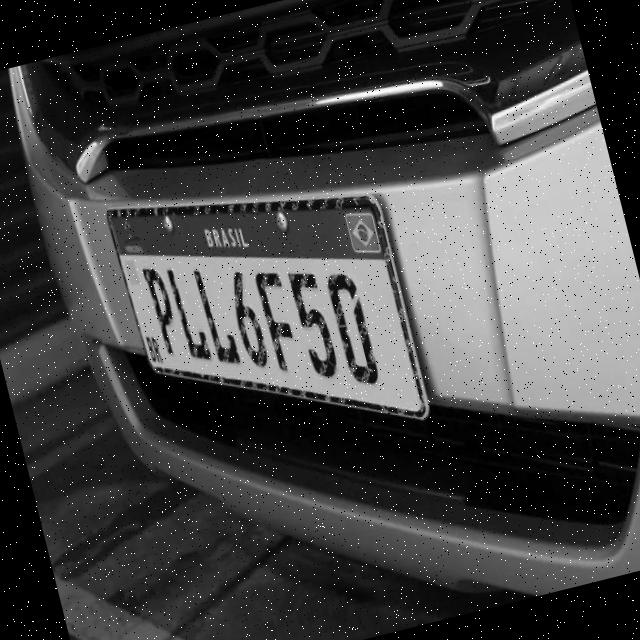placa_mercosul: (109, 196, 429, 418)
